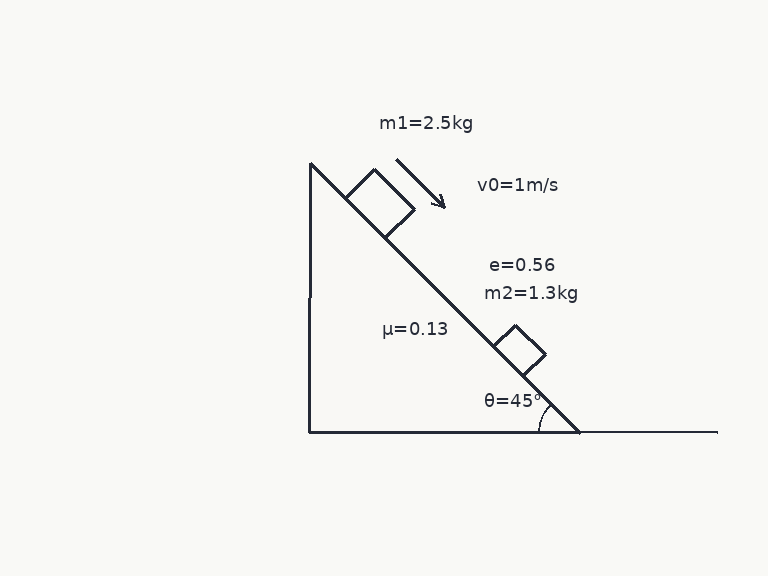block: (343, 167, 416, 240), (491, 323, 547, 378)
ramp: (308, 161, 581, 434)
